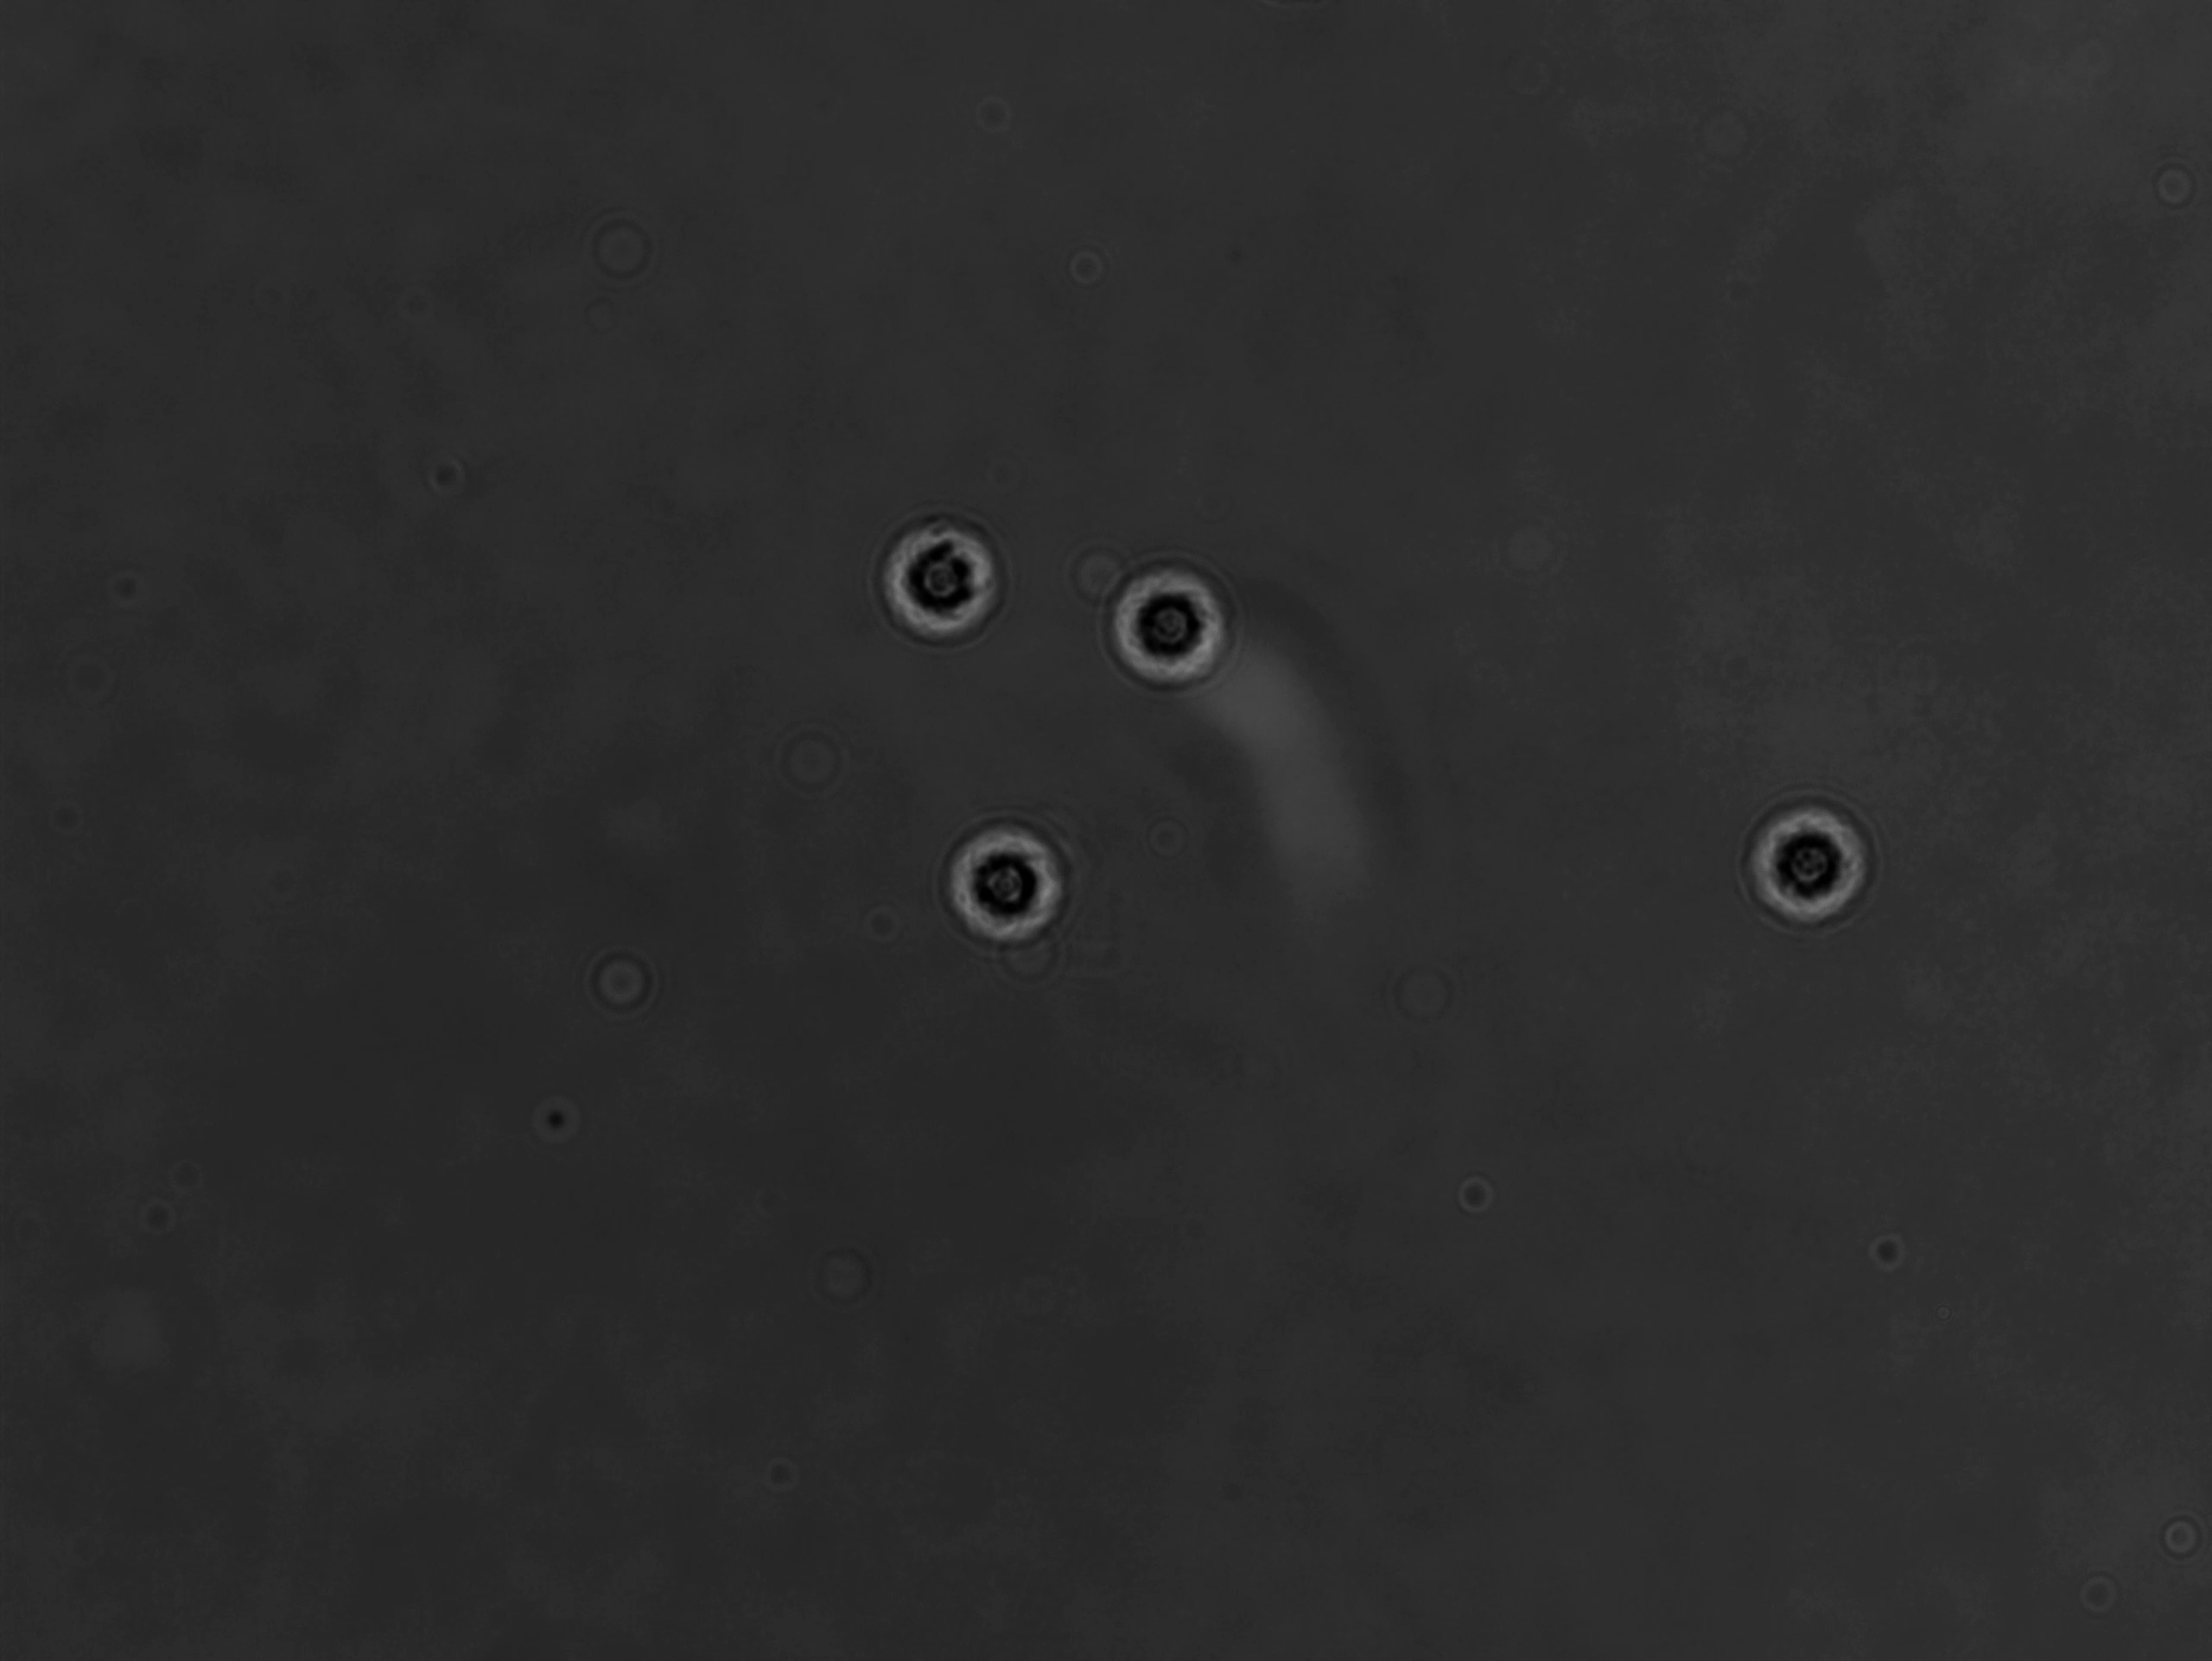depth:-20: (914, 796, 1083, 958), (1738, 776, 1898, 937), (860, 492, 1017, 653), (1094, 551, 1251, 707)
